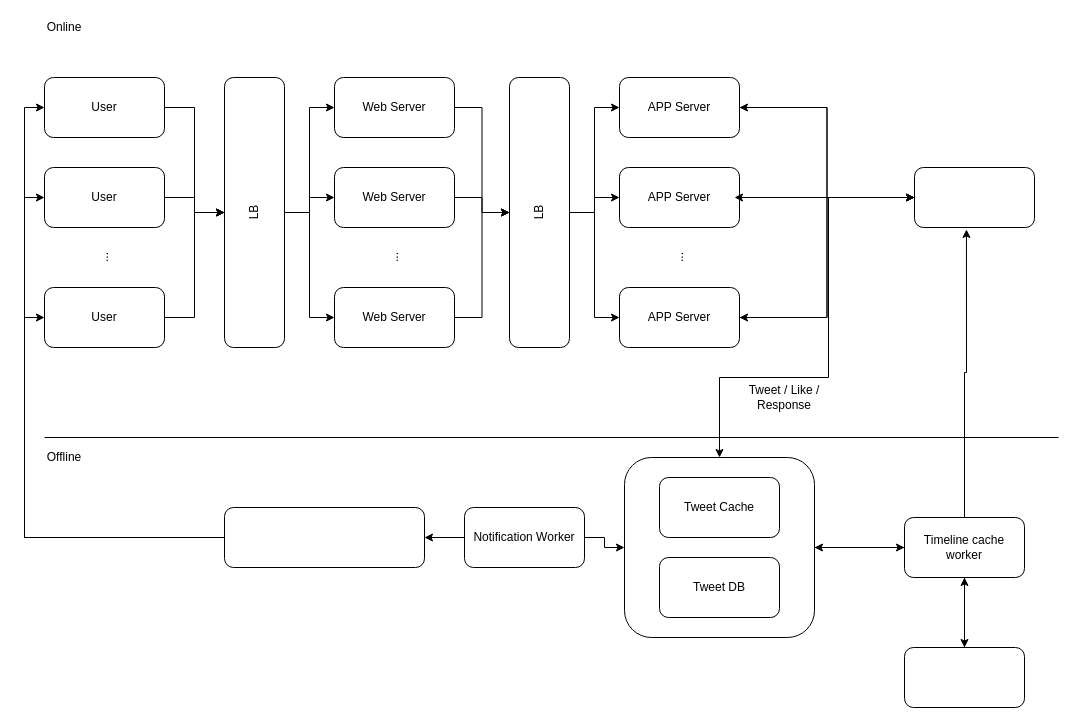
This 1077x725 diagram has some shape labels left out. Here are the shapes that lost their labels. From the top down, the centre of each, then its label:
(x=974, y=197): Timeline Cache
(x=324, y=537): Message Bus
(x=964, y=677): Ranking Component
